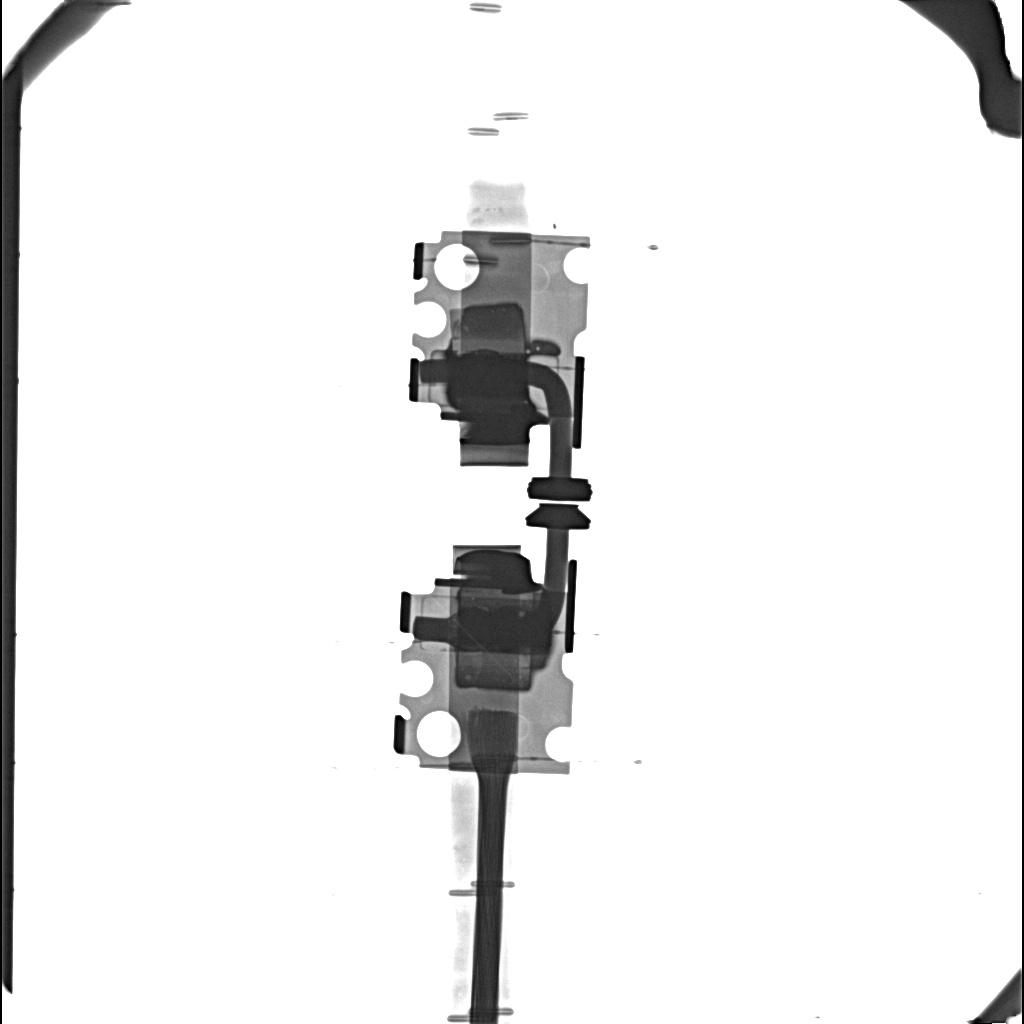defect: (457, 609, 551, 652), (460, 302, 528, 350), (448, 358, 527, 399), (454, 652, 533, 691)
